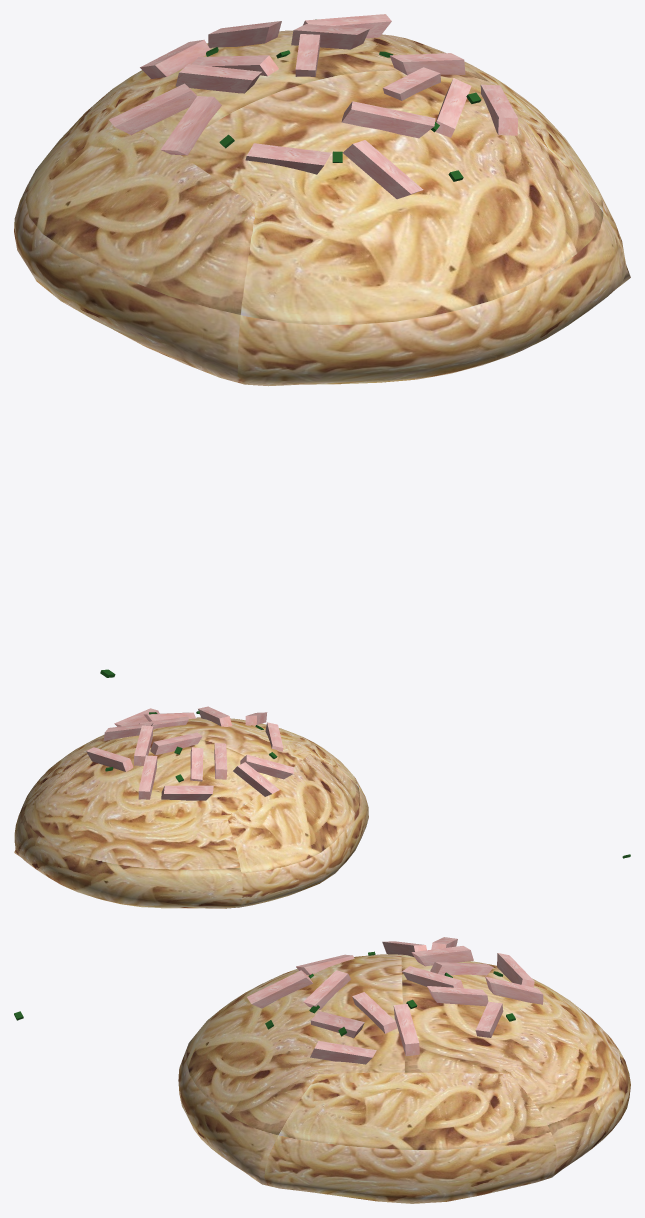
The model's file is BadCarbonara.fbx.
3 views of the same model, one above another, from view 1: azimuth 30°, elevation 25°; view 2: azimuth 150°, elevation 25°; view 3: azimuth 270°, elevation 25° (orthographic). The views are drawn at different scales.
Parts seen in each view (by area): view 1: pCube1, pCube8, pCube13, pCube16, pCube6, pCube2, pCube7, pCube4, pCube14, pCube5, pCube11, pCube20 (+5 smaller); view 2: pCube1, pCube11, pCube2, pCube13, pCube3, pCube10, pCube4, pCube14, pCube5, pCube6, pCube12, pCube8 (+4 smaller); view 3: pCube1, pCube16, pCube20, pCube14, pCube4, pCube5, pCube6, pCube8, pCube15, pCube9, pCube3, pCube12 (+4 smaller).
Boxes of the visible parts, x1,y1,x2,y2 form: pCube1: (14,30,630,386); pCube8: (341,101,435,138); pCube13: (109,83,196,134); pCube16: (342,140,423,199); pCube6: (175,64,261,93); pCube2: (160,96,221,155); pCube7: (245,143,331,174); pCube4: (208,21,281,47); pCube14: (291,24,369,49); pCube5: (390,53,465,75); pCube11: (140,39,210,78); pCube20: (480,84,518,135); pCube1: (14,717,368,908); pCube11: (161,785,213,800); pCube2: (240,754,293,779); pCube13: (233,762,279,796); pCube3: (150,732,202,755); pCube10: (86,747,133,771); pCube4: (138,755,157,799); pCube14: (134,725,153,765); pCube5: (103,722,153,740); pCube6: (214,743,227,779); pCube12: (190,747,203,781); pCube8: (198,706,231,726); pCube1: (178,954,630,1203); pCube16: (247,970,312,1008); pCube20: (310,1041,376,1064); pCube14: (427,986,488,1006); pCube4: (485,976,543,1004); pCube5: (393,1004,419,1056); pCube6: (411,946,473,966); pCube8: (303,970,350,1009); pCube15: (310,1011,364,1038); pCube9: (352,992,396,1033); pCube3: (402,966,463,988); pCube12: (430,962,493,975).
Size of the model in its own units: 7.84 by 3.11 by 7.89.
